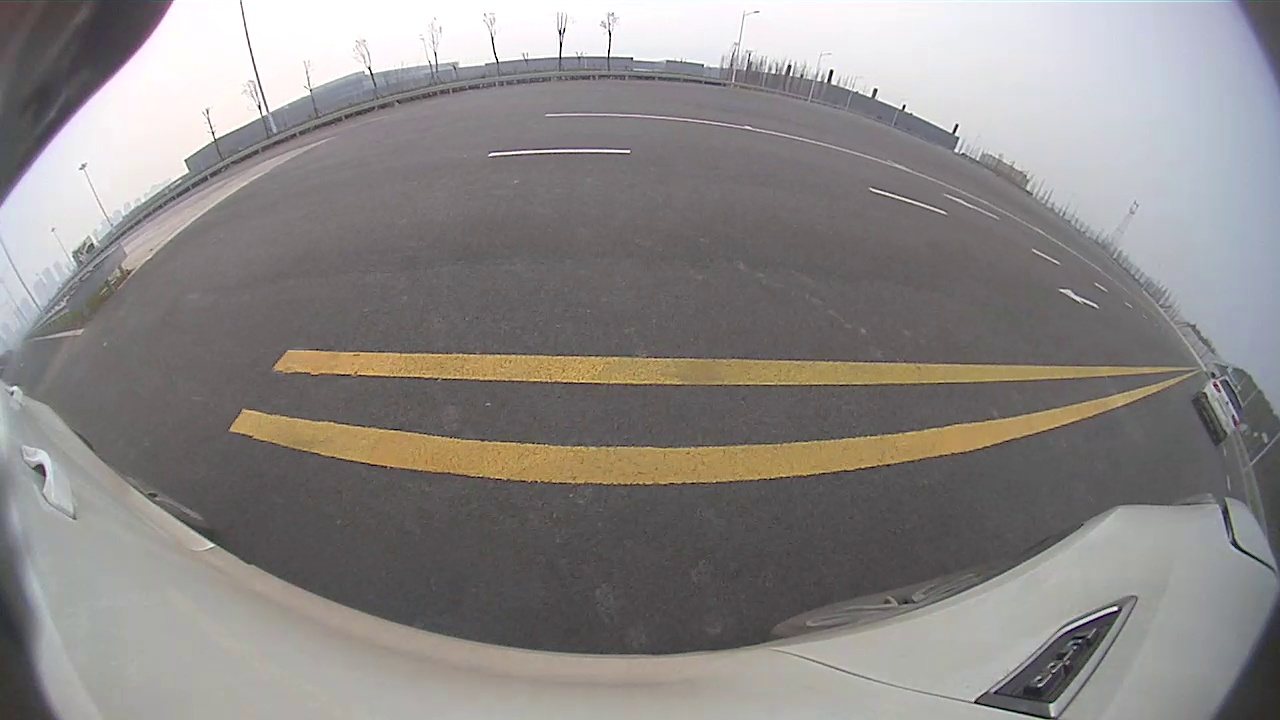car: (1192, 371, 1246, 446)
